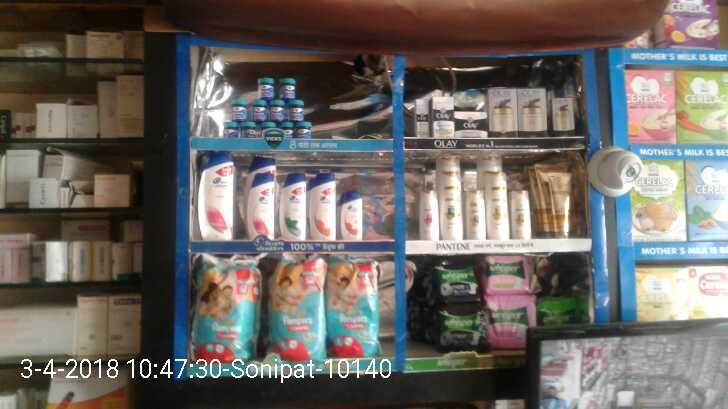vicks: (218, 75, 311, 141)
